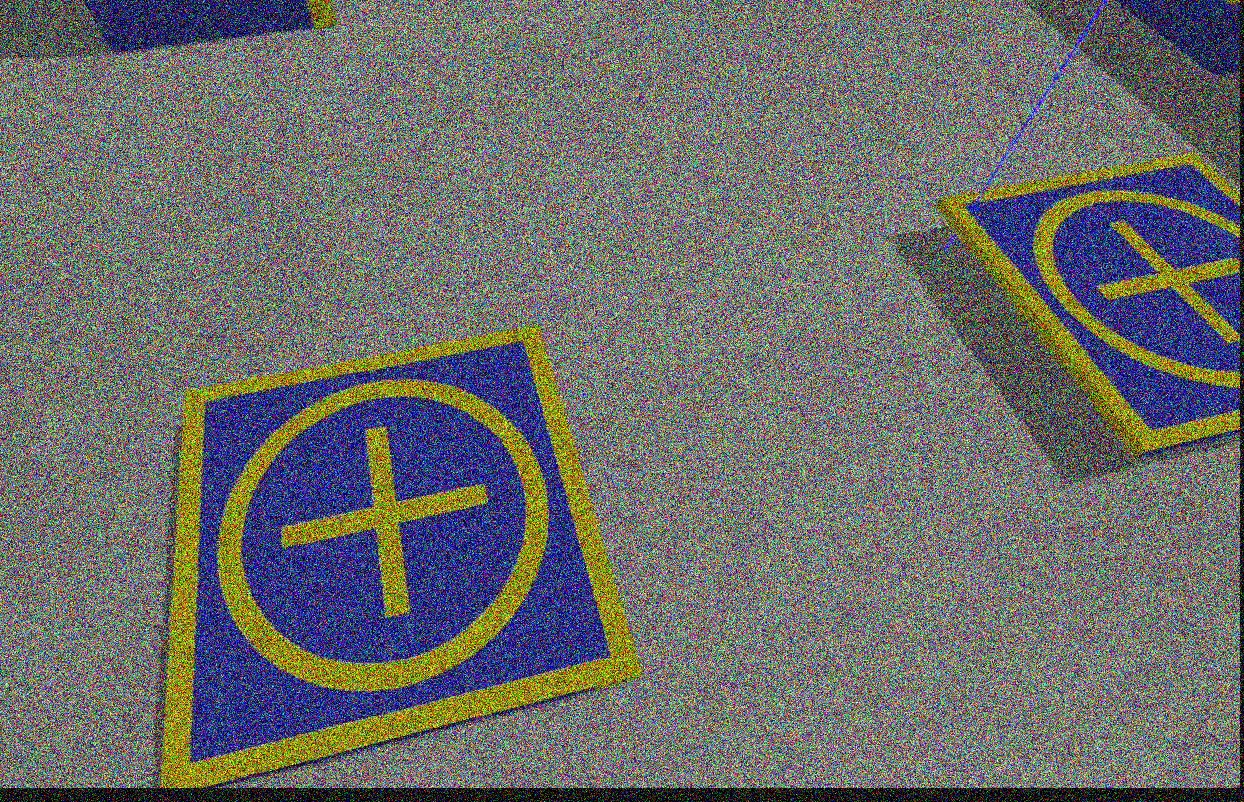small_base: (155, 328, 645, 785), (938, 149, 1242, 455)
